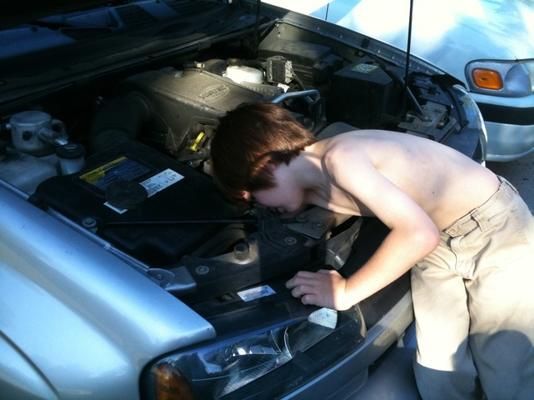person: (208, 99, 532, 400)
